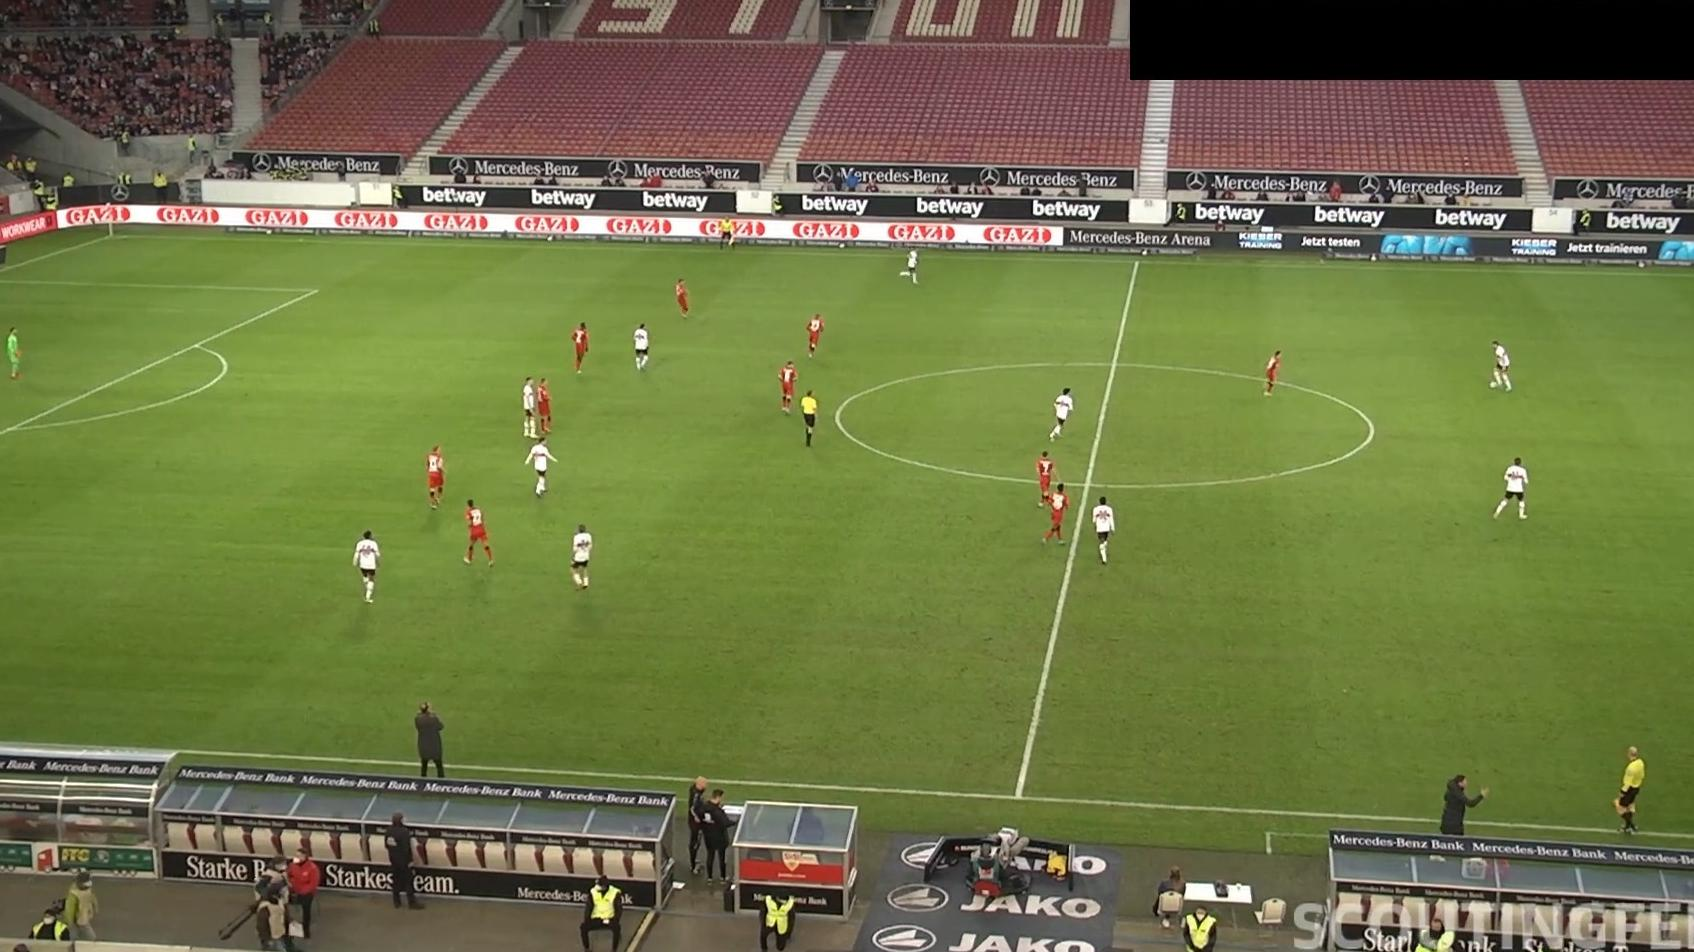ball: (1487, 378, 1499, 391)
